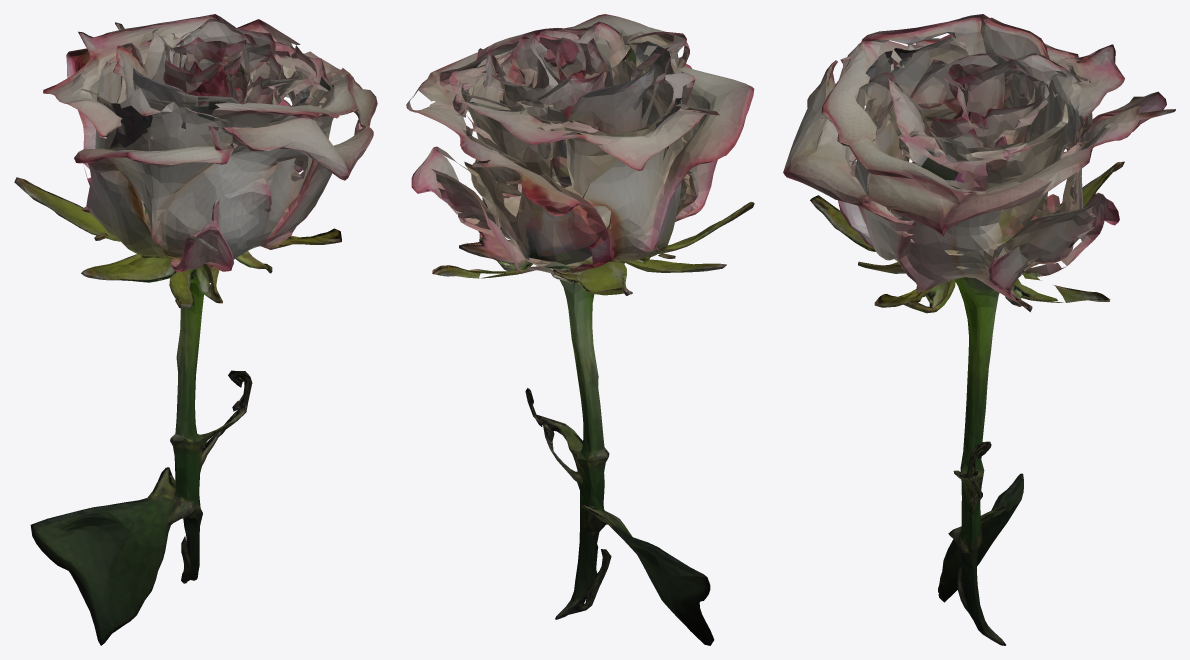
3 views of the same model, side by side, from view 1: azimuth 30°, elevation 25°; view 2: azimuth 150°, elevation 25°; view 3: azimuth 270°, elevation 25° (orthographic). The views are drawn at different scales.
Parts seen in each view (by area): view 1: world; view 2: world; view 3: world.
Boxes of the visible parts, x1,y1,x2,y2 form: world: (14, 14, 377, 645); world: (406, 14, 754, 645); world: (783, 14, 1175, 645).
Size of the model in its own units: 0.5621 by 0.989 by 0.5721.
Materials: 1 (1 with a texture image).
